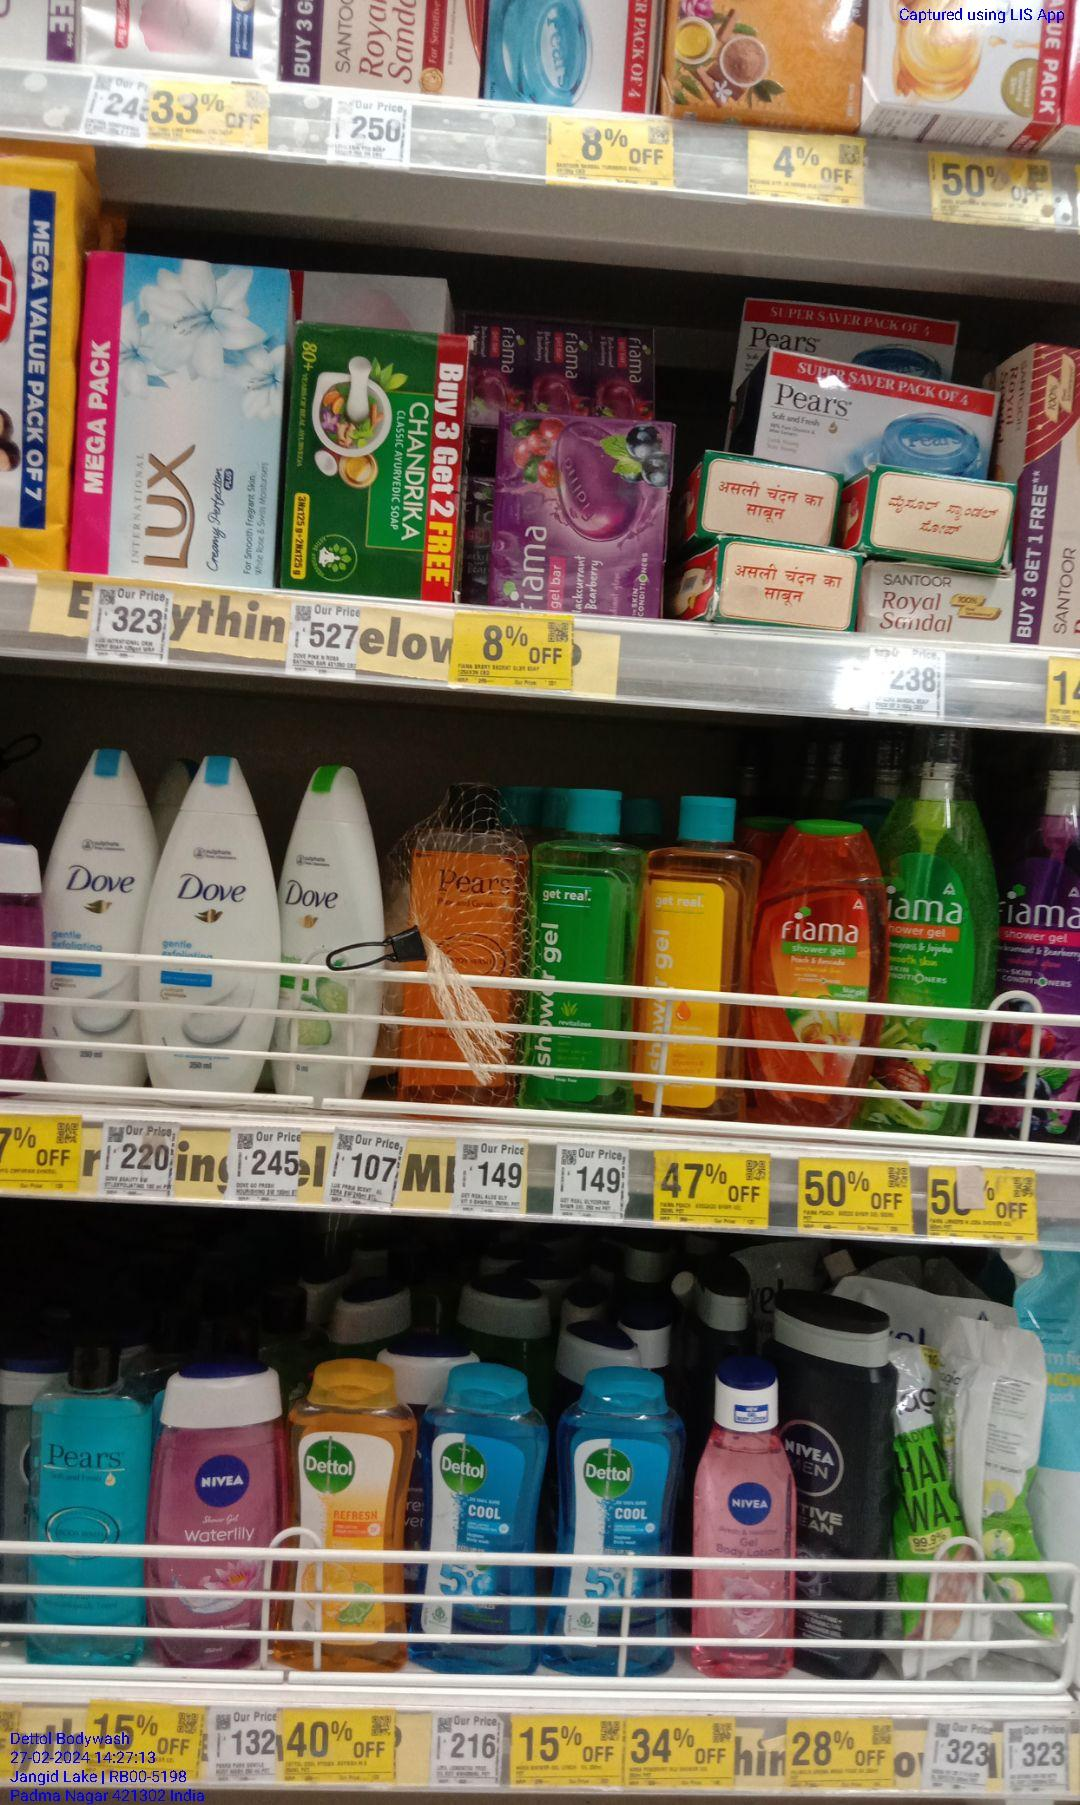Dettol_Bodywash_Cool: (414, 1368, 540, 1676), (563, 1387, 680, 1680)
Dettol_Bodywash_Refresh: (287, 1361, 402, 1679)
Dove_Gentle_Exfoliating_Body_Wash_250ML: (152, 759, 274, 1104), (49, 747, 148, 1088)
Dove_Refreshing_Body_Wash_250ML: (278, 764, 387, 1106)
Fiama_Shower_Gel_Peach_and_Avocado_250ML: (762, 815, 883, 1131)
Nivea_Shower_Gel_Waterlily_and_Oil_250ML: (168, 1359, 273, 1673)
Pears_Pure_Glycerin_and_Mint_Extracts_Body_Wash_250ML: (27, 1352, 147, 1667)
